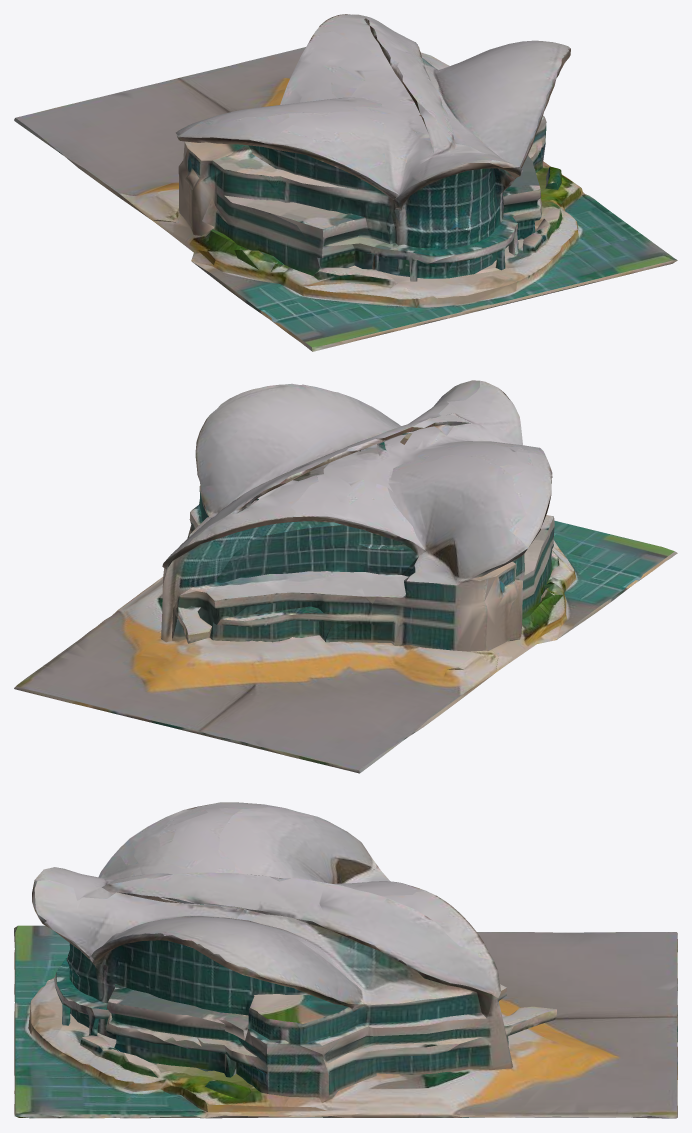
The model's file is hong-kong-convention-centre.glb.
3 views of the same model, one above another, from view 1: azimuth 30°, elevation 25°; view 2: azimuth 150°, elevation 25°; view 3: azimuth 270°, elevation 25° (orthographic). The views are drawn at different scales.
Visible parts, largest first — view 1: logan-textured.obj; view 2: logan-textured.obj; view 3: logan-textured.obj.
Boxes of the visible parts, x1,y1,x2,y2 form: logan-textured.obj: (14, 14, 677, 351); logan-textured.obj: (14, 380, 677, 773); logan-textured.obj: (14, 802, 677, 1118).
Size of the model in its own units: 0.6794 by 0.2673 by 1.
Materials: 1 (1 with a texture image).
